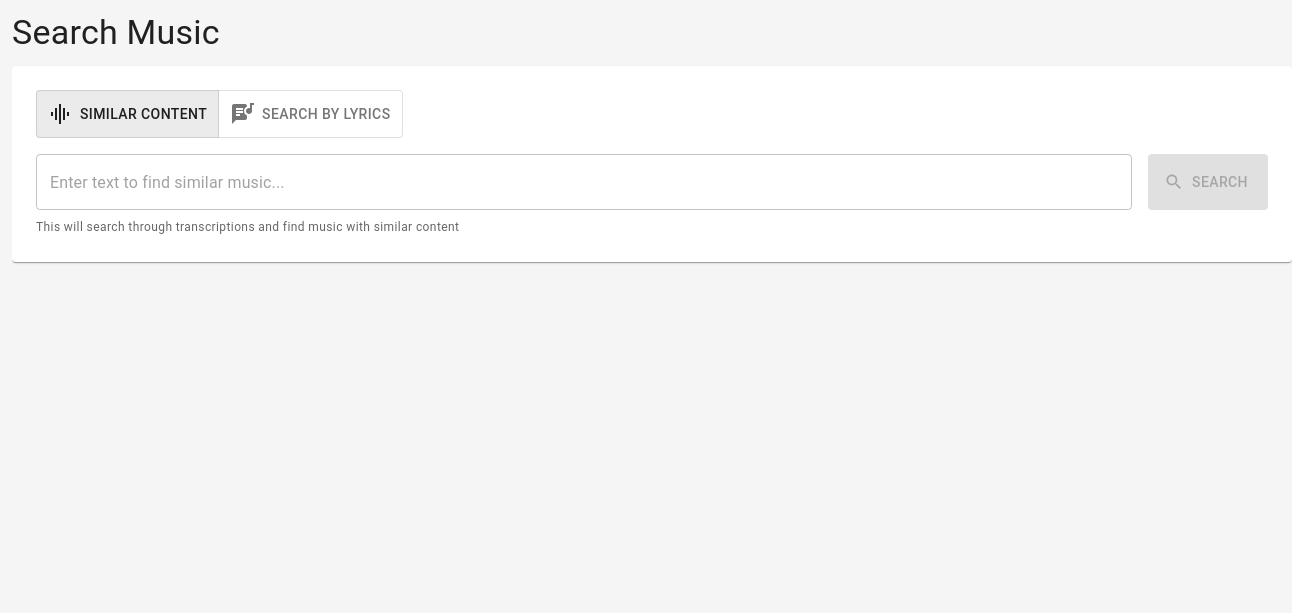
Test: SearchPage Component › formats duration correctly
Type "test" into the field with placeholder "Enter text to find similar music..." at (584, 182), box left=36, top=154, right=1132, bottom=210
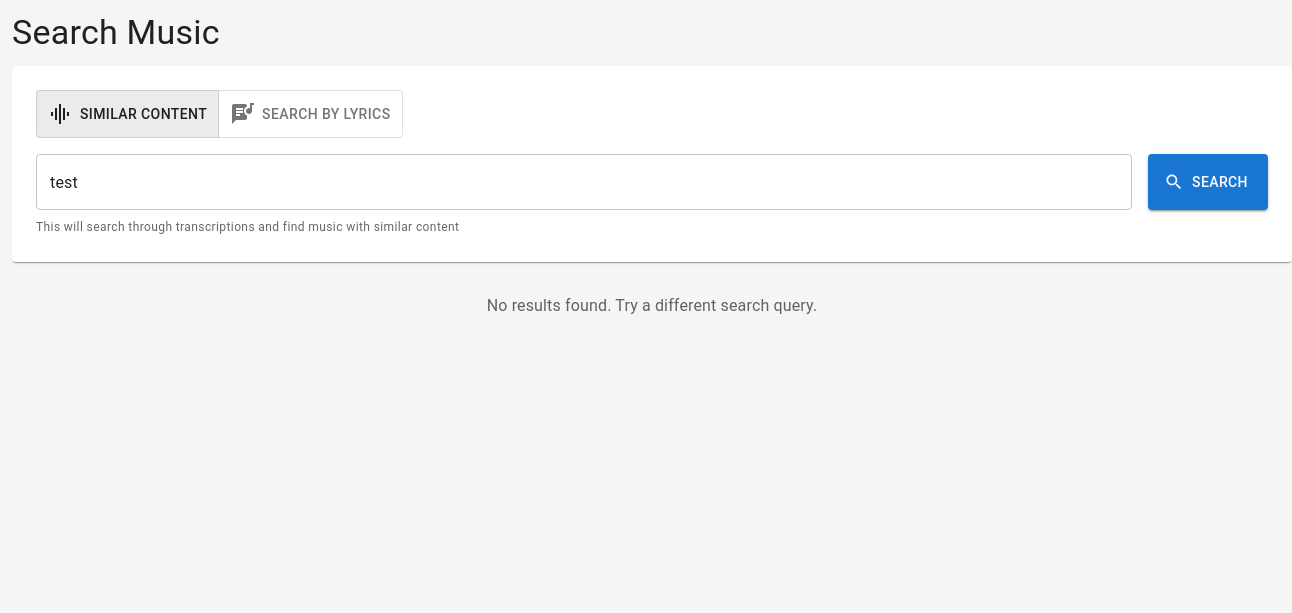
Click the button "Search" at (1208, 182), box left=1148, top=154, right=1268, bottom=210
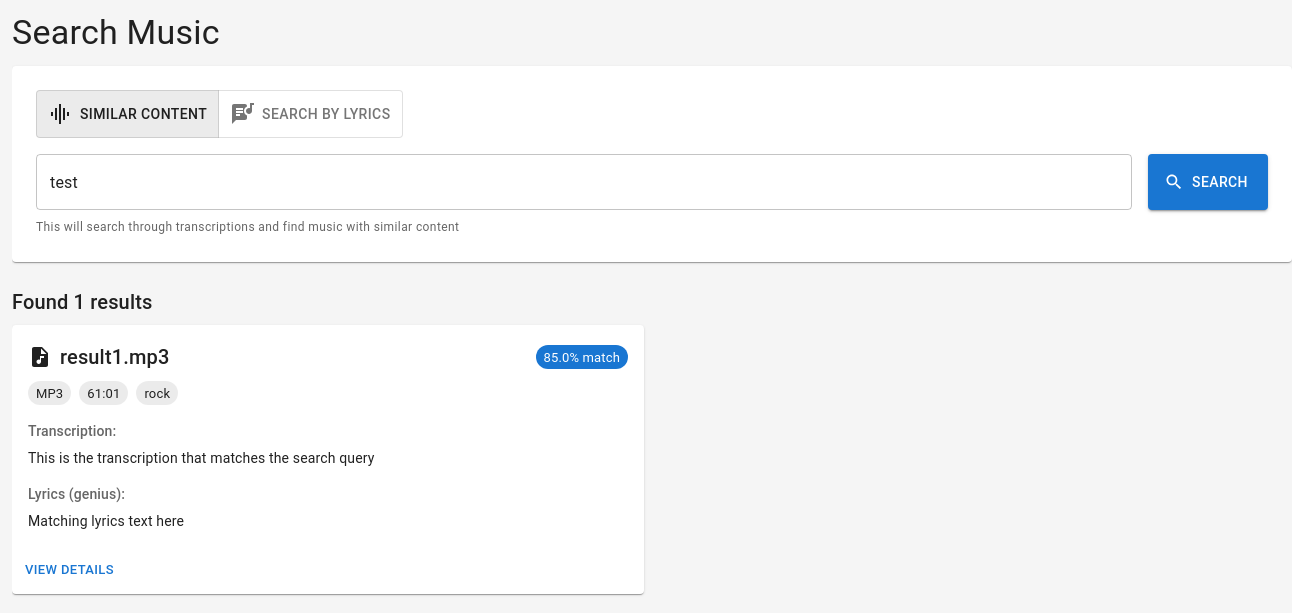
Check: the text "61:01" is shown, box left=87, top=386, right=120, bottom=400
